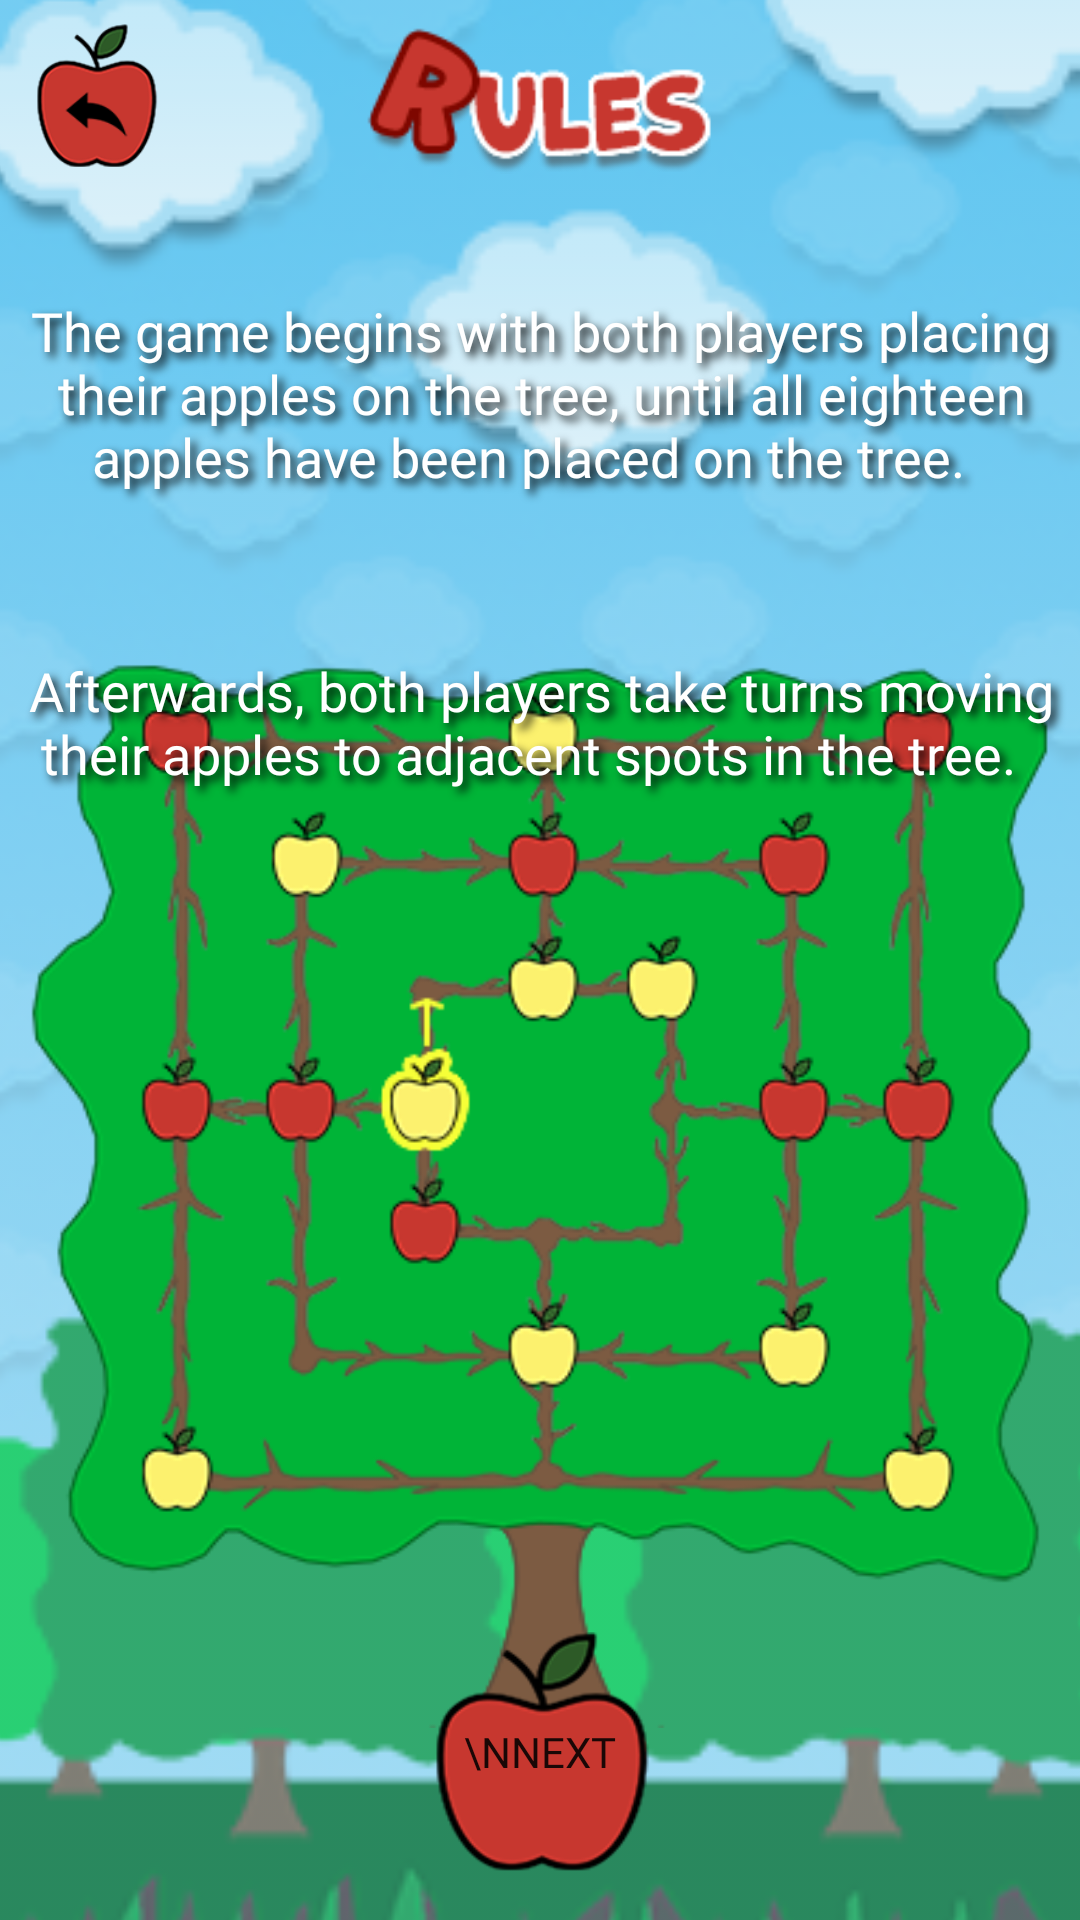

Named icons in this screenshot (1080x1920) and their bounding boxes, (x1, y1, x2, y2):
backbutton: (37, 24, 157, 167)
